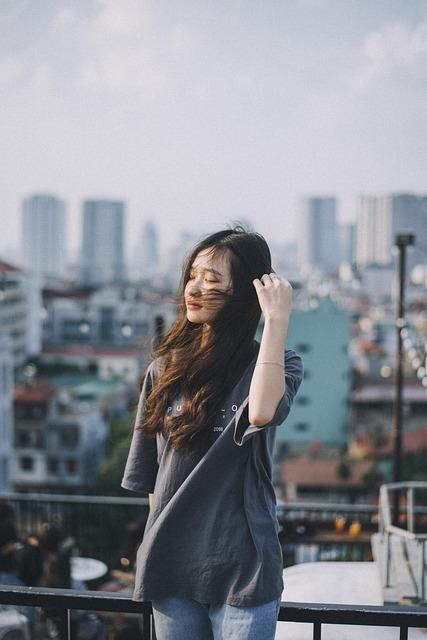Non_Gorille: (85, 179, 363, 640)
